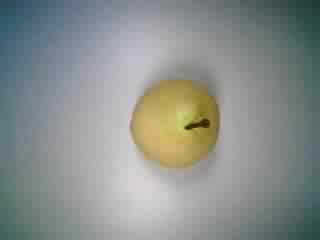pear: (125, 73, 226, 171)
